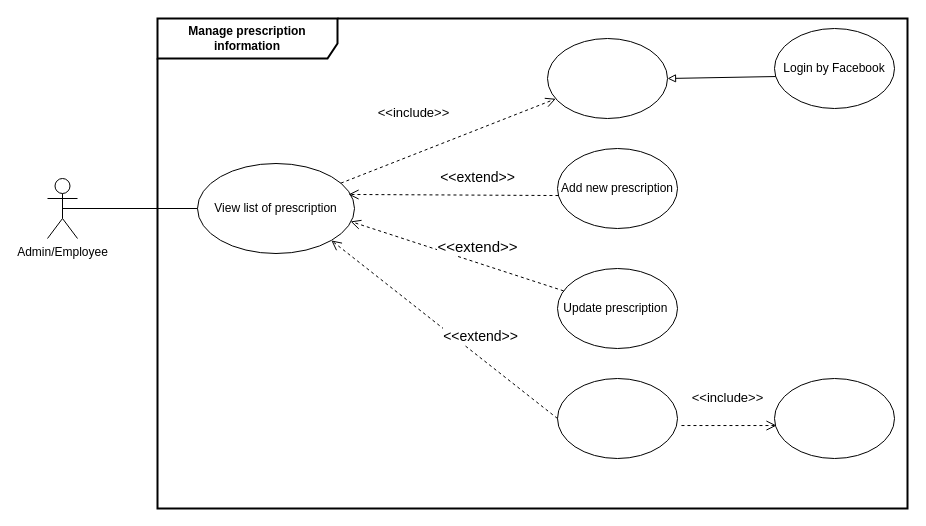
Some shapes in this 926 by 526 pixel diagram are drawn without their labels. The shapes that lost their labels are listed below. From the top down, each one's box as (x1, y1, x2, y2) in pixels, then its label:
(546, 38, 668, 118): Log in
(556, 378, 678, 458): Delete prescription
(774, 378, 894, 458): Confirm delete
